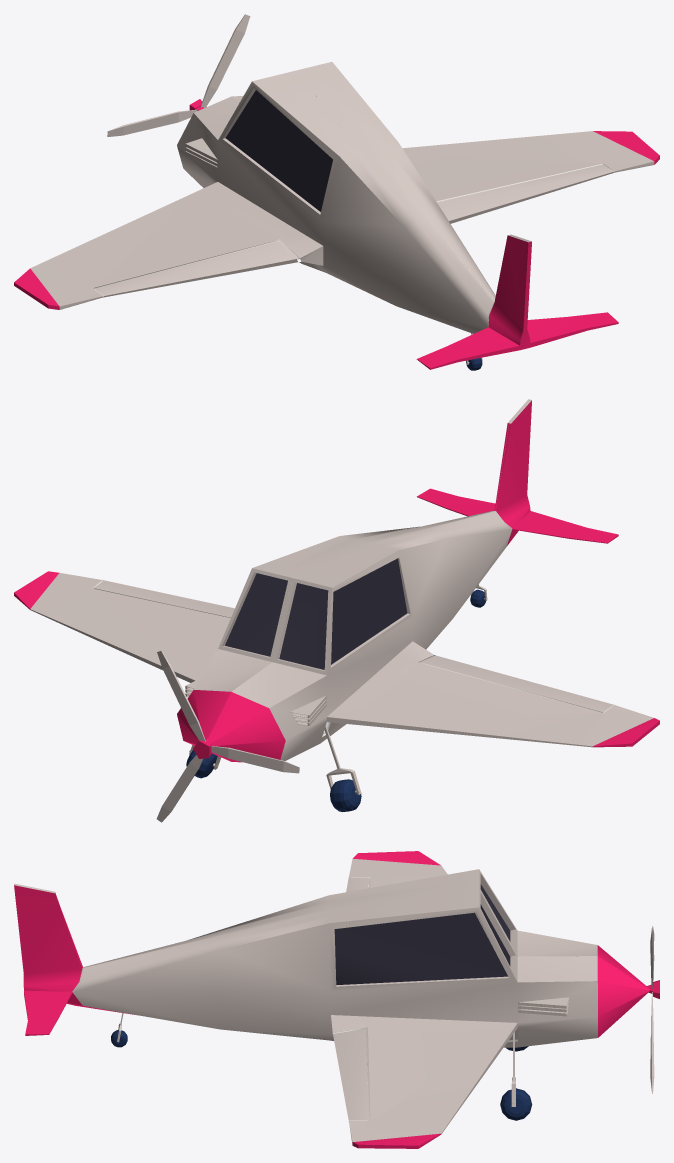
The model's file is cartoon_plane.glb.
3 renders of one model, top to bottom at view 1: azimuth 30°, elevation 25°; view 2: azimuth 150°, elevation 25°; view 3: azimuth 270°, elevation 25°, orthographic. The views are drawn at different scales.
Visible parts, largest first — view 1: Cube_1_3, propellor; view 2: Cube_1_3, propellor, Wheel_2; view 3: Cube_1_3, Wheel_4, propellor.
Boxes of the visible parts, <box> form: Cube_1_3: <box>14,62,659,369</box>; propellor: <box>107,14,250,136</box>; Cube_1_3: <box>14,399,659,762</box>; propellor: <box>156,650,299,822</box>; Wheel_2: <box>330,779,361,811</box>; Cube_1_3: <box>14,851,649,1148</box>; Wheel_4: <box>500,1088,532,1120</box>; propellor: <box>650,926,654,1093</box>.
Size of the model in its own units: 1.91 by 0.6074 by 1.77.
